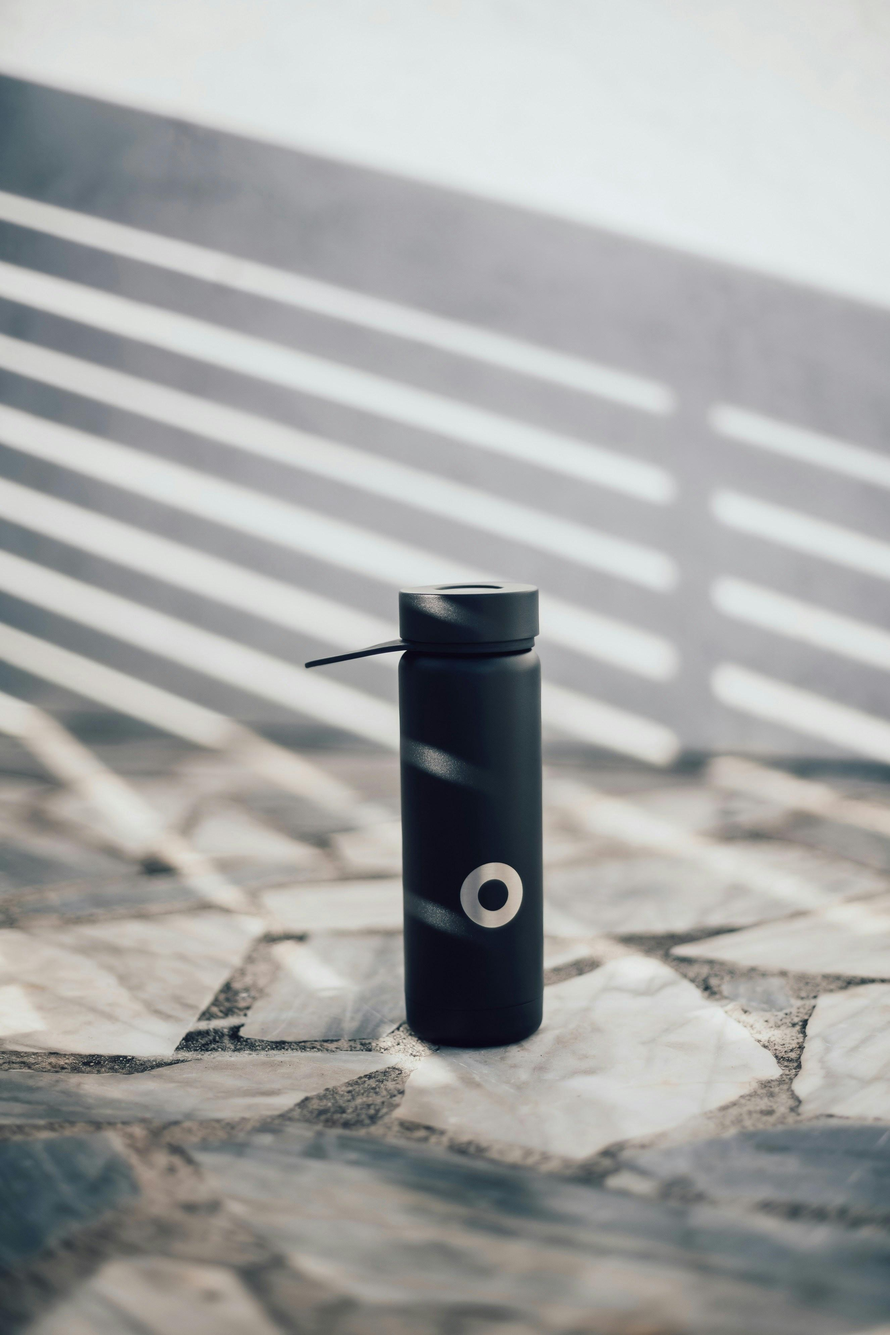Bottle-Detection: (255, 520, 624, 1095)
